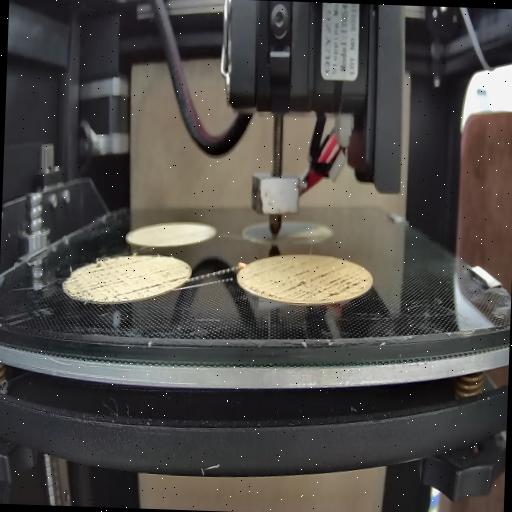under_extrusion: (249, 266, 370, 302), (67, 258, 142, 306), (144, 268, 188, 292)
